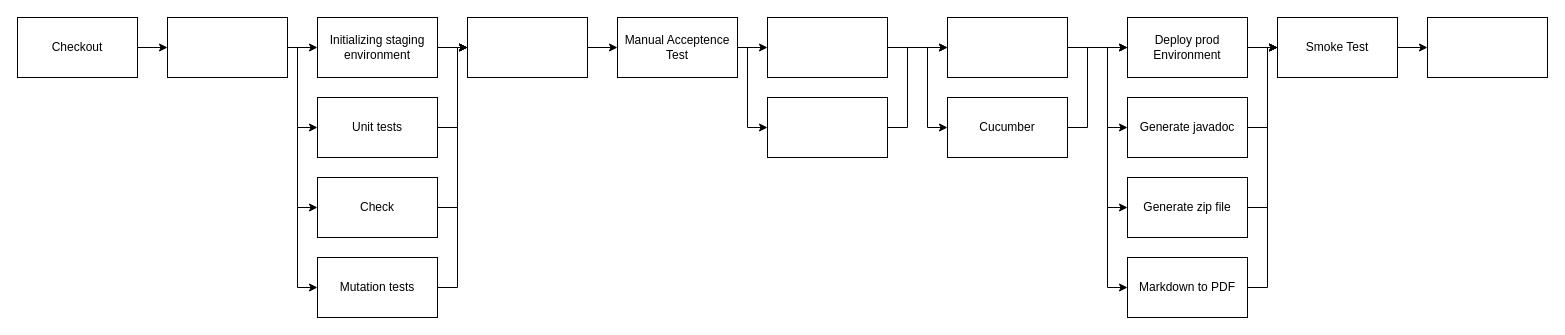
The diagram is 1565 pixels wide and 335 high, and some of its shapes have lost their labels. Here are the shapes that lost their labels. From the top down, the centre of each, then its label:
(227,47): Build
(527,47): Smoke test staging
(827,47): IT tests
(1007,47): Jmeter
(1487,47): Tags (Always)
(827,127): End2End
